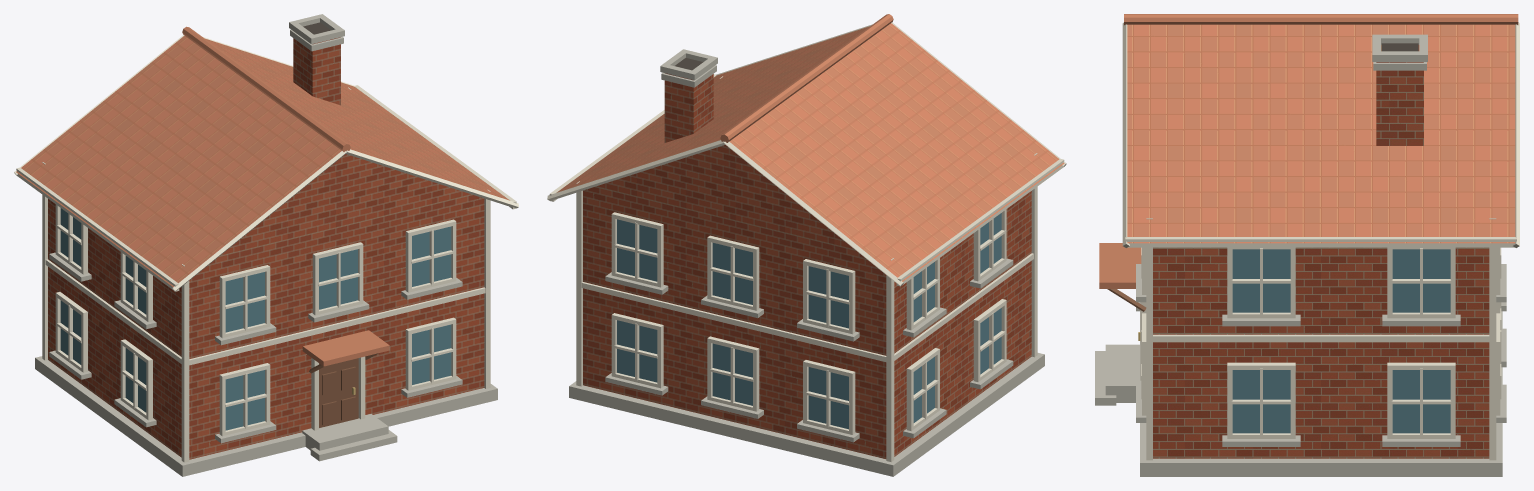
The model's file is brick-house-01.glb.
The picture shows the model from 3 angles, left to right: view 1: azimuth 30°, elevation 25°; view 2: azimuth 150°, elevation 25°; view 3: azimuth 270°, elevation 25°; orthographic projection. The views are drawn at different scales.
Parts seen in each view (by area): view 1: House.Foundation, House.Brick walls, House.Roof backing; view 2: House.Brick walls, House.Foundation, House.Roof backing; view 3: House.Roof backing, House.Foundation, House.Brick walls.
Part boxes in pixels (left/top/right/bottom): House.Foundation: left=14, top=14, right=518, bottom=476; House.Brick walls: left=48, top=37, right=484, bottom=459; House.Roof backing: left=16, top=35, right=509, bottom=287; House.Brick walls: left=583, top=73, right=1031, bottom=458; House.Foundation: left=547, top=14, right=1066, bottom=476; House.Roof backing: left=556, top=23, right=1064, bottom=281; House.Roof backing: left=1127, top=24, right=1515, bottom=243; House.Foundation: left=1095, top=14, right=1519, bottom=476; House.Brick walls: left=1153, top=44, right=1489, bottom=458.
Size of the model in its own units: 11.52 by 10.01 by 9.96.
3 materials, 3 textured.
